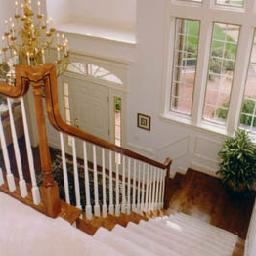Escaleras: (13, 96, 251, 255)
Matera: (218, 129, 255, 212)
Puerta: (66, 79, 112, 167)
